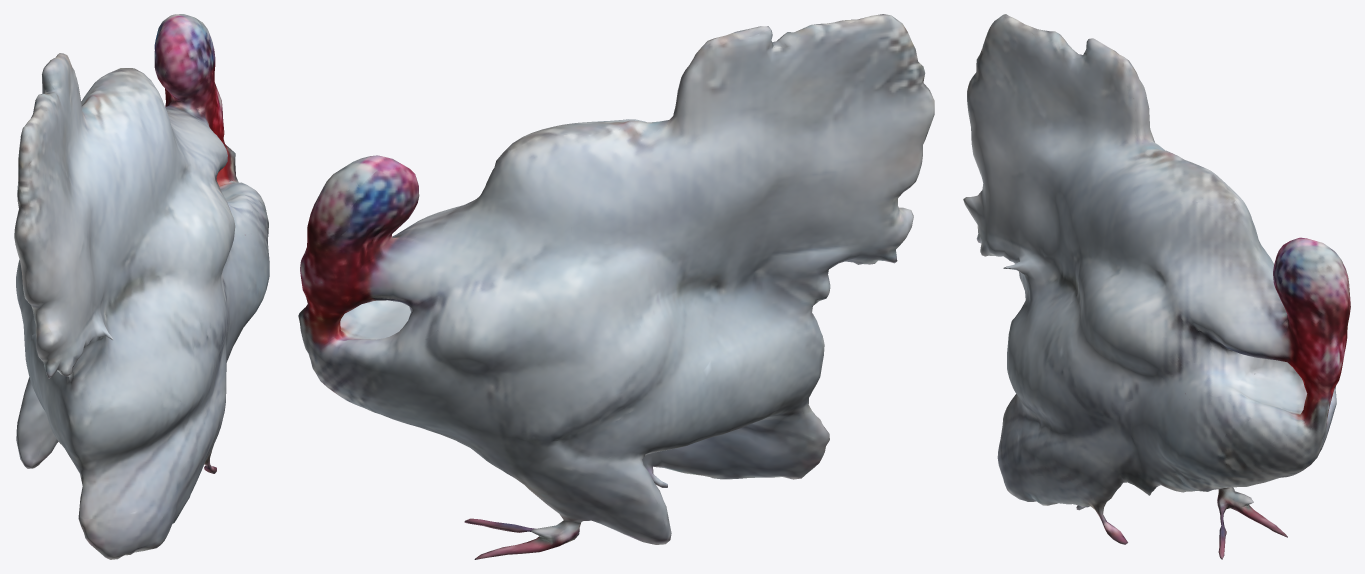
Rendered from adulto.glb.
3 views of the same model, side by side, from view 1: azimuth 30°, elevation 25°; view 2: azimuth 150°, elevation 25°; view 3: azimuth 270°, elevation 25° (orthographic). The views are drawn at different scales.
Visible parts, largest first — view 1: mesh; view 2: mesh; view 3: mesh.
Boxes of the visible parts, x1,y1,x2,y2 form: mesh: [14, 14, 269, 559]; mesh: [298, 14, 934, 559]; mesh: [963, 14, 1350, 559].
Size of the model in its own units: 1.29 by 1.41 by 1.16.
Materials: 1 (1 with a texture image).
